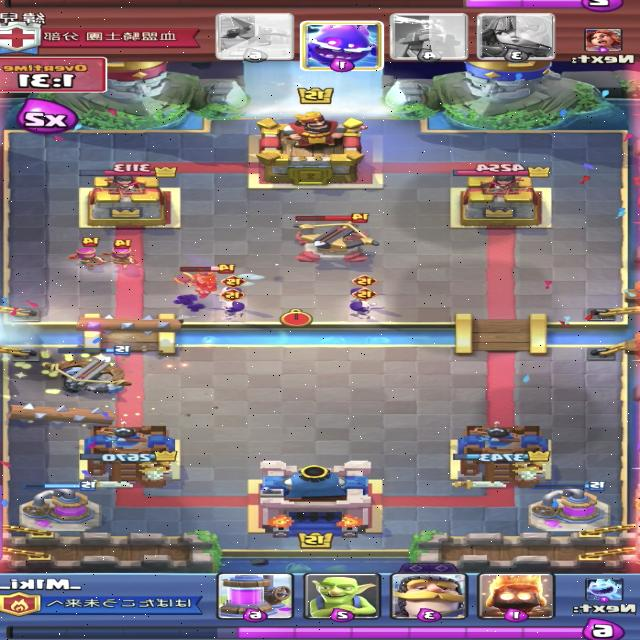Enemy-Archer: (66, 237, 113, 270), (102, 239, 142, 272)
Enemy-Log: (2, 402, 122, 424)
Enemy-Skeleton-Evo: (349, 287, 384, 320), (348, 275, 379, 304), (218, 275, 248, 304), (217, 289, 245, 320)
Enemy-Valkyrie: (170, 264, 236, 298)
Enemy-XBow: (289, 213, 379, 264)
Player-ElixirPump: (16, 480, 102, 534), (524, 482, 612, 533)
Player-XBow: (40, 345, 133, 394)
